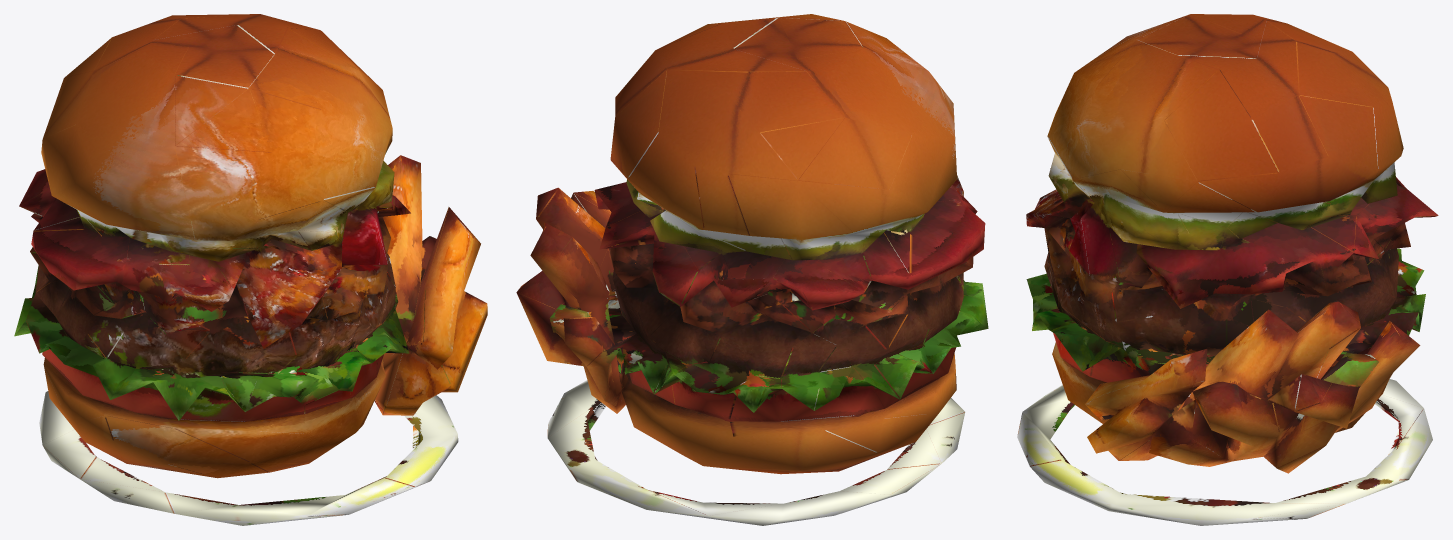
Rendered from wagyu-bacon-burger.glb.
3 renders of one model, left to right at view 1: azimuth 30°, elevation 25°; view 2: azimuth 150°, elevation 25°; view 3: azimuth 270°, elevation 25°, orthographic. The views are drawn at different scales.
Visible parts, largest first — view 1: geometry_0; view 2: geometry_0; view 3: geometry_0.
Part boxes in pixels (x1,y1,x2,y2): geometry_0: (14,14,487,525); geometry_0: (516,14,988,525); geometry_0: (1017,14,1438,525).
Bounding box in the file's own units: 1.99 × 1.83 × 1.8.
Materials: 1 (1 with a texture image).
